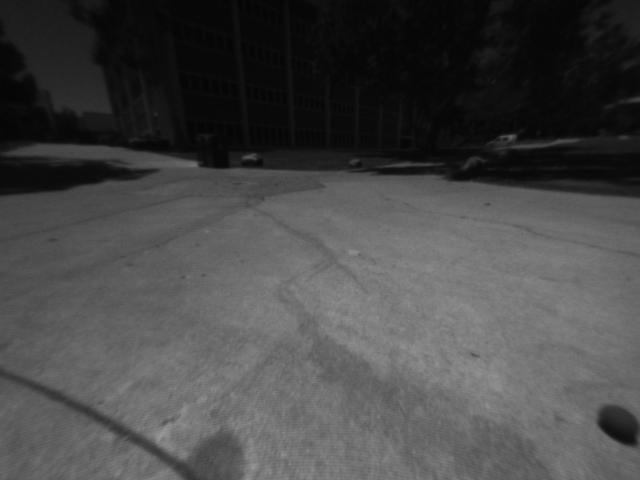dogtoy: (587, 394, 640, 456)
